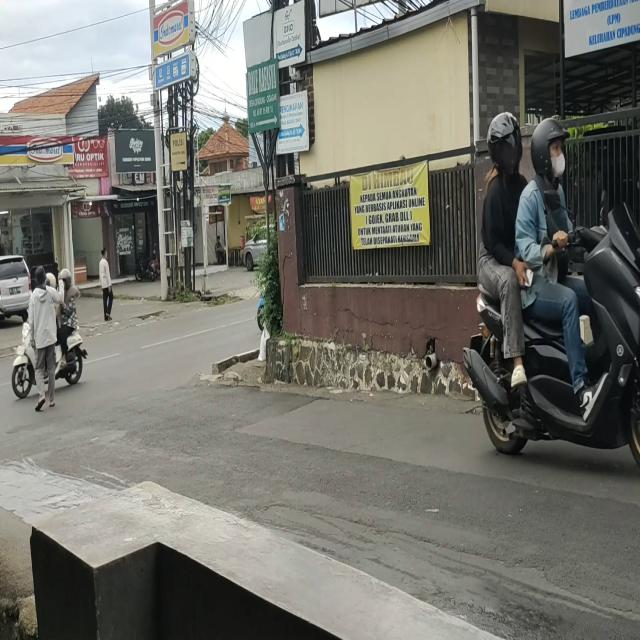helmet: (533, 122, 566, 184), (490, 117, 520, 171), (63, 272, 73, 294)
